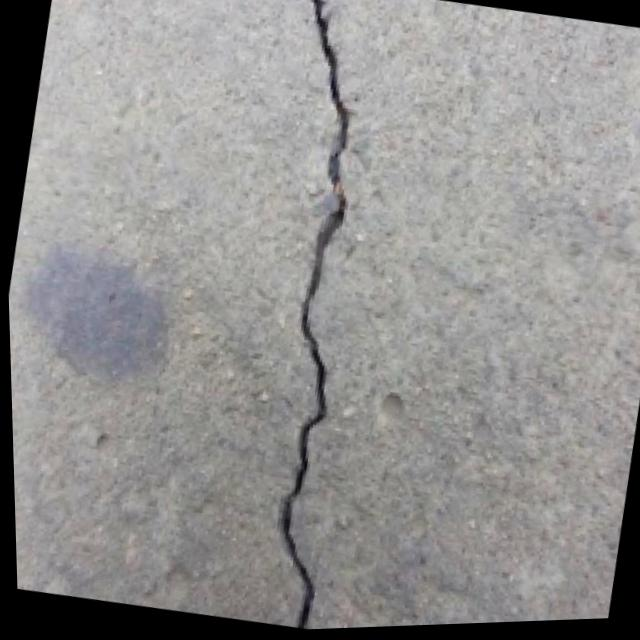Crack: (164, 0, 430, 635)
